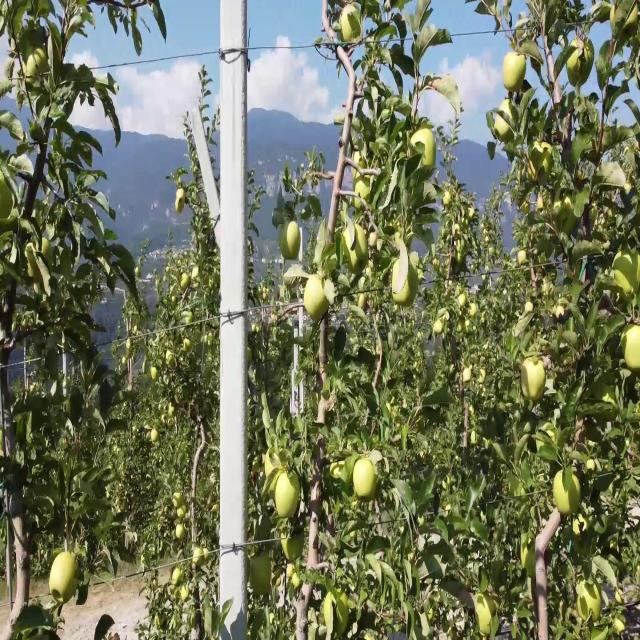apple: (52, 554, 80, 604), (520, 355, 547, 404), (276, 469, 301, 521), (556, 469, 582, 517), (412, 127, 436, 178), (616, 248, 640, 297), (304, 277, 328, 324), (392, 263, 418, 306), (280, 220, 302, 263), (504, 56, 528, 92), (252, 554, 272, 597), (356, 462, 375, 500), (625, 327, 640, 375), (348, 227, 368, 261), (340, 7, 357, 44), (284, 533, 304, 562), (496, 113, 513, 142), (337, 597, 349, 638), (337, 604, 350, 638), (332, 462, 351, 484), (356, 227, 368, 261), (356, 179, 372, 204), (568, 56, 580, 85), (324, 277, 335, 308), (348, 255, 363, 277), (332, 462, 347, 484), (288, 568, 303, 590), (524, 547, 535, 574), (524, 547, 535, 574), (324, 597, 334, 622), (372, 476, 381, 503), (360, 184, 372, 204), (316, 618, 327, 638), (312, 199, 322, 219), (468, 305, 479, 320), (444, 191, 453, 208), (180, 277, 190, 292), (152, 426, 160, 444), (176, 526, 186, 540), (196, 547, 203, 567), (168, 348, 175, 368), (460, 291, 468, 308), (464, 369, 473, 384), (192, 270, 201, 284), (436, 319, 444, 334), (176, 490, 184, 505), (180, 504, 188, 519), (468, 206, 476, 220), (304, 206, 312, 220), (464, 319, 471, 334), (184, 341, 192, 354), (360, 298, 368, 311), (152, 369, 159, 382), (264, 284, 269, 302), (488, 248, 496, 258), (204, 554, 210, 567), (460, 319, 465, 334), (520, 255, 527, 265), (356, 184, 360, 197), (524, 206, 531, 213), (356, 199, 361, 206)
